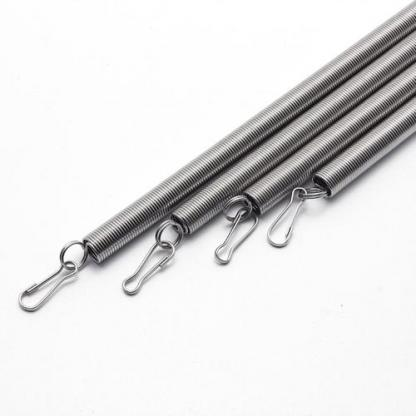FOD: (12, 0, 415, 314), (117, 26, 415, 298), (211, 61, 415, 264), (265, 93, 415, 249)
